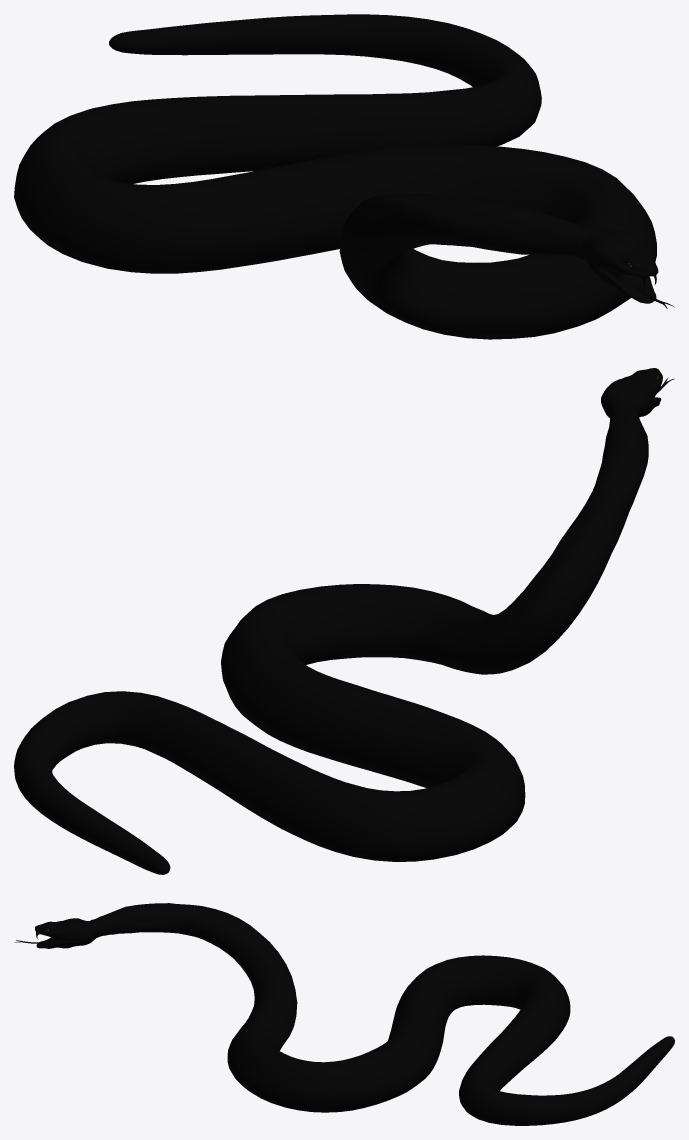
The picture shows the model from 3 angles, top to bottom: view 1: azimuth 30°, elevation 25°; view 2: azimuth 150°, elevation 25°; view 3: azimuth 270°, elevation 25°; orthographic projection. The views are drawn at different scales.
Bounding box in the file's own units: 673 × 289 × 1299.
Materials: 2 (1 with a texture image).
